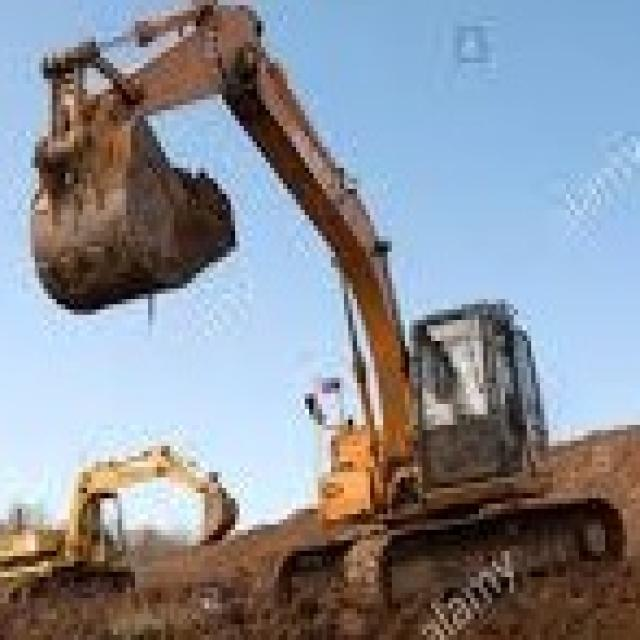excavator: (271, 272, 622, 612)
